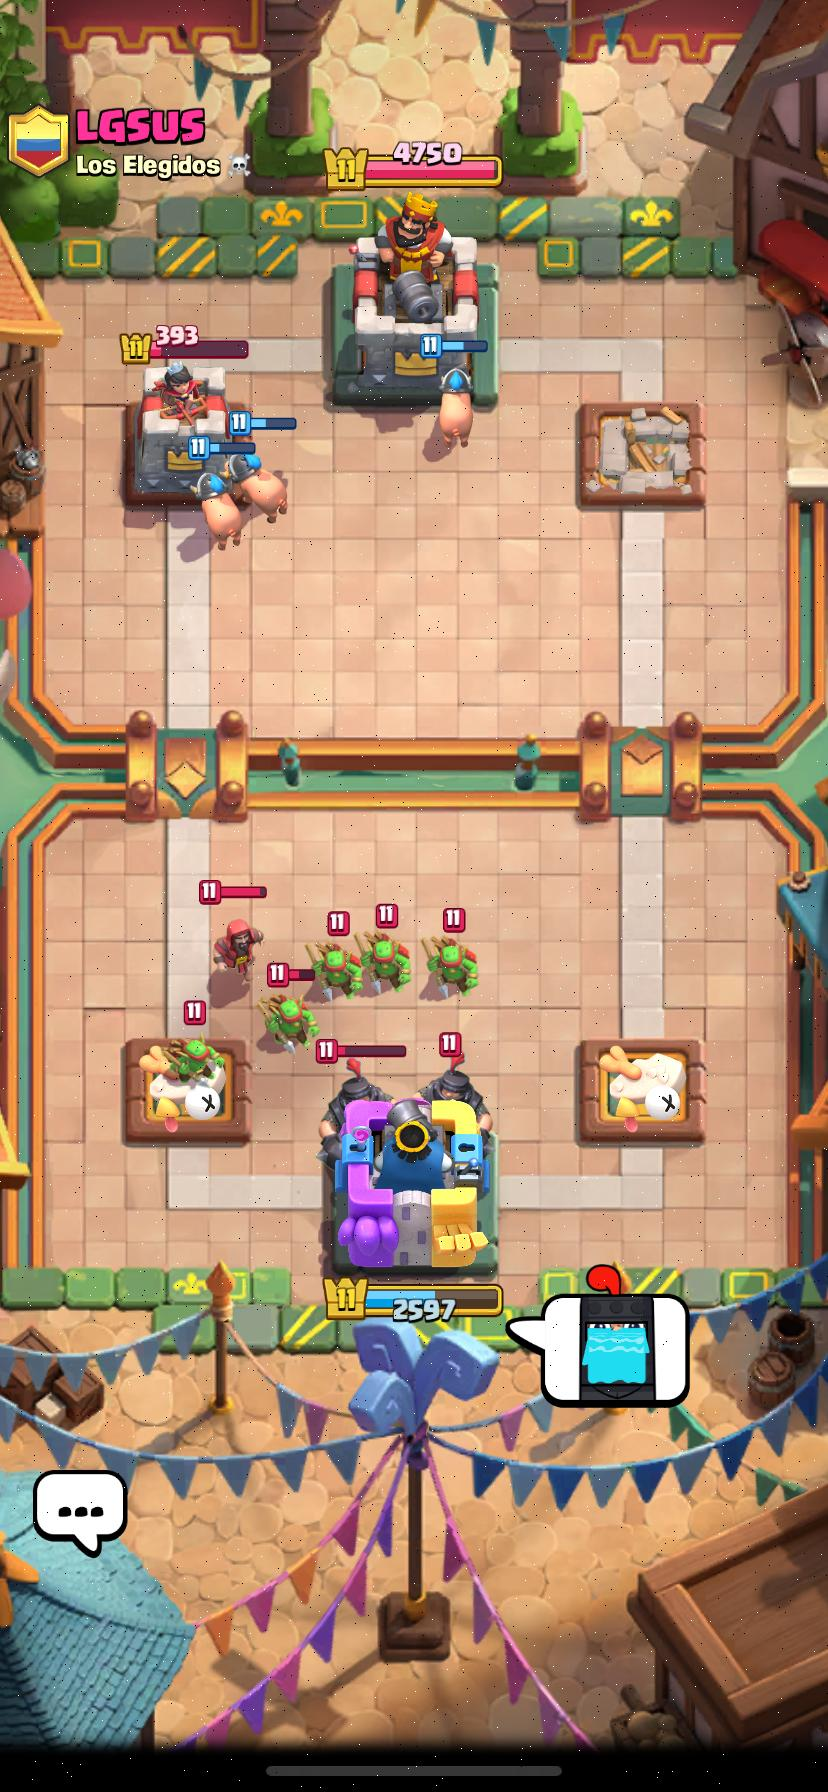EKingTower: (327, 195, 496, 408)
EMegaKnight: (318, 1058, 396, 1168), (414, 1050, 493, 1147)
ESpearGoblin: (256, 994, 318, 1053), (355, 931, 411, 993), (422, 934, 476, 998), (305, 942, 363, 999), (167, 1037, 223, 1089)
EWizard: (215, 919, 263, 979)
EnemyPrincessTower: (133, 362, 230, 491)
ORoyalHog: (191, 472, 242, 550), (228, 455, 286, 518), (439, 368, 472, 446)
OwnKingTower: (333, 1099, 496, 1273)
TowerDown: (578, 401, 704, 509), (579, 1039, 703, 1142), (127, 1039, 252, 1139)
